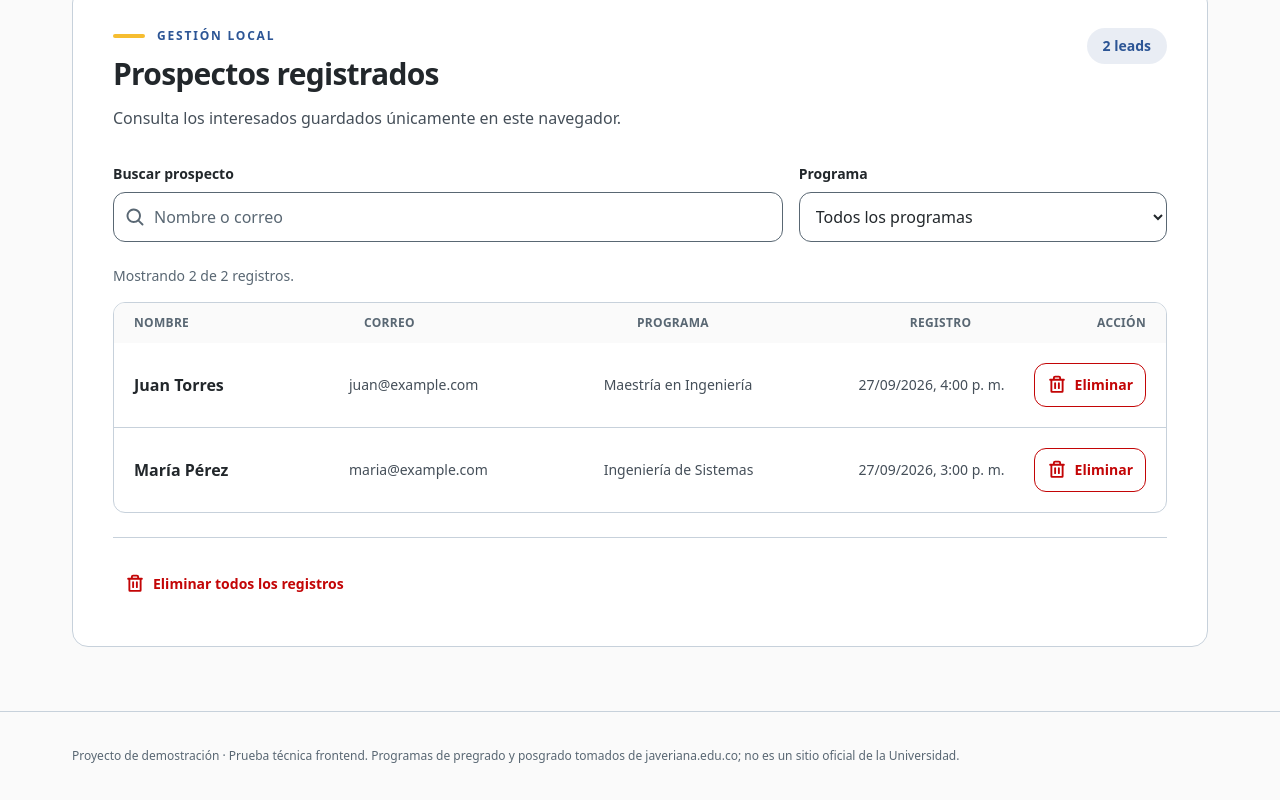
Test: panel de prospectos › elimina un registro y anuncia el resultado
(page scrolled)
Click the button with aria-label "Eliminar registro de María Pérez": (1090, 470) left=1034, top=448, right=1146, bottom=492
(page scrolled)
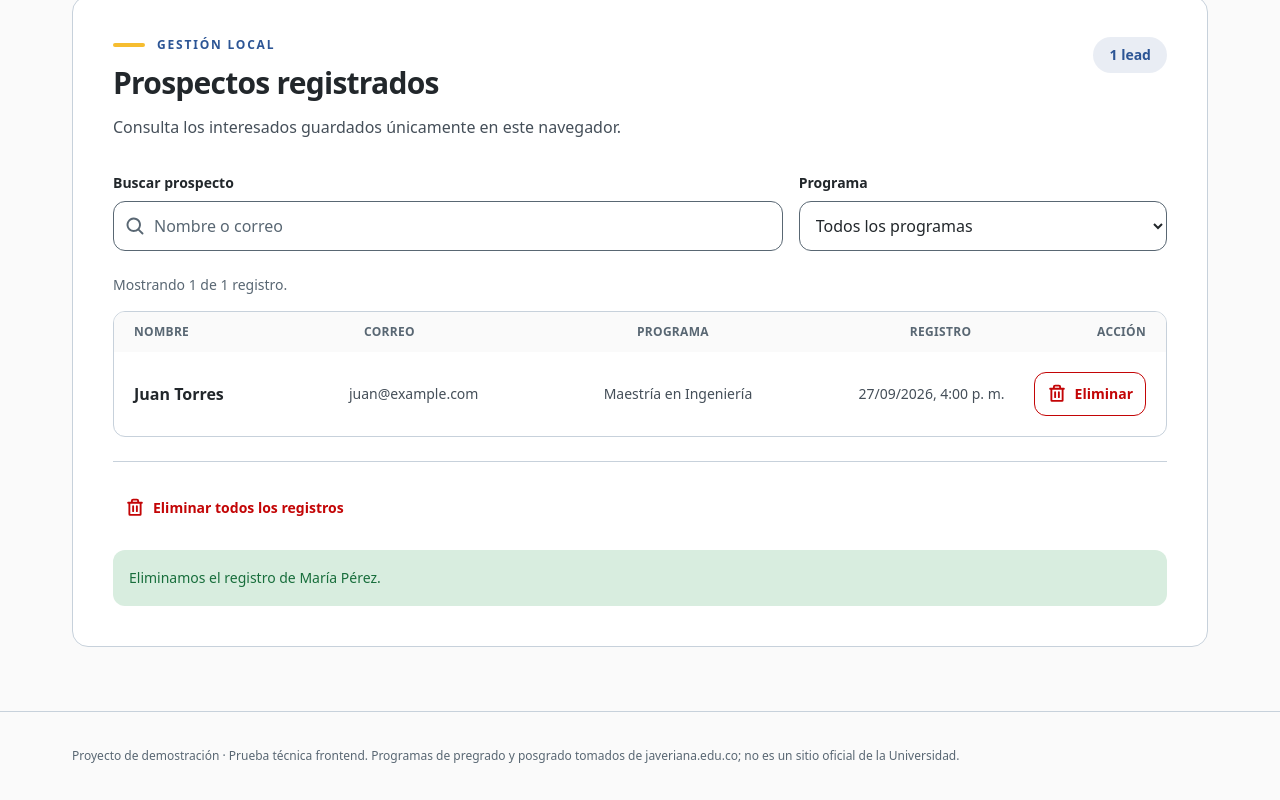
Result: the text "Eliminamos el registro de María Pérez." is shown at left=113, top=550, right=1167, bottom=606
